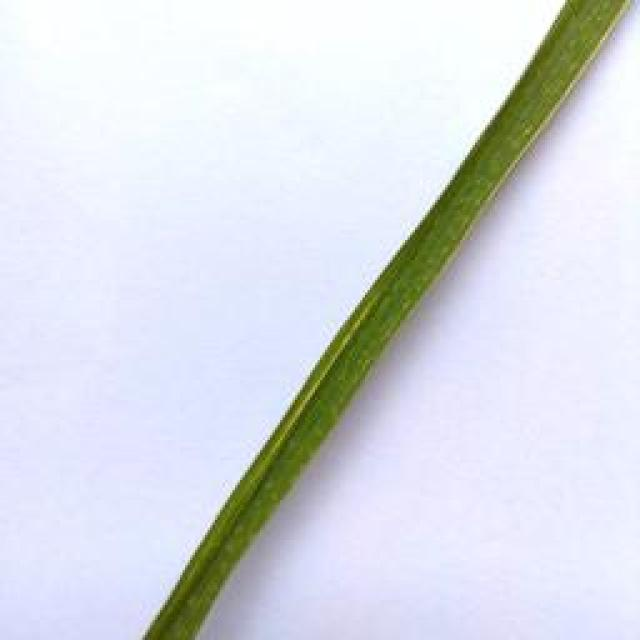Healthy-Plant: (145, 0, 635, 640)
